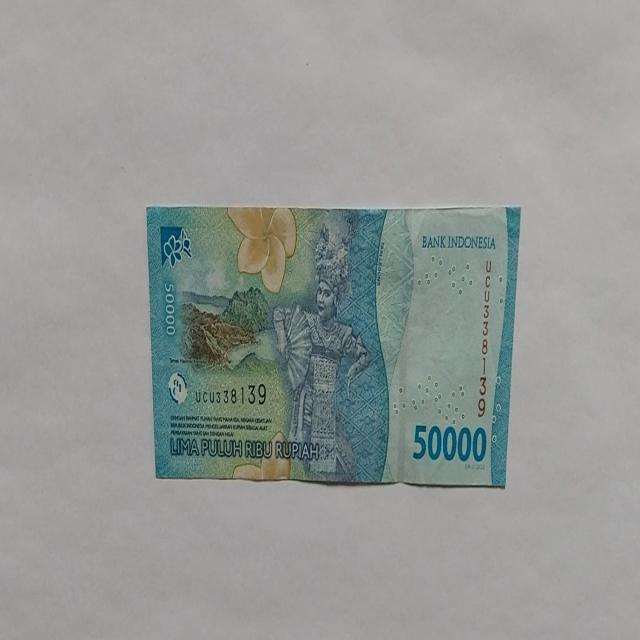lima puluh ribu rupiah: (146, 204, 521, 488), (272, 216, 372, 482)
